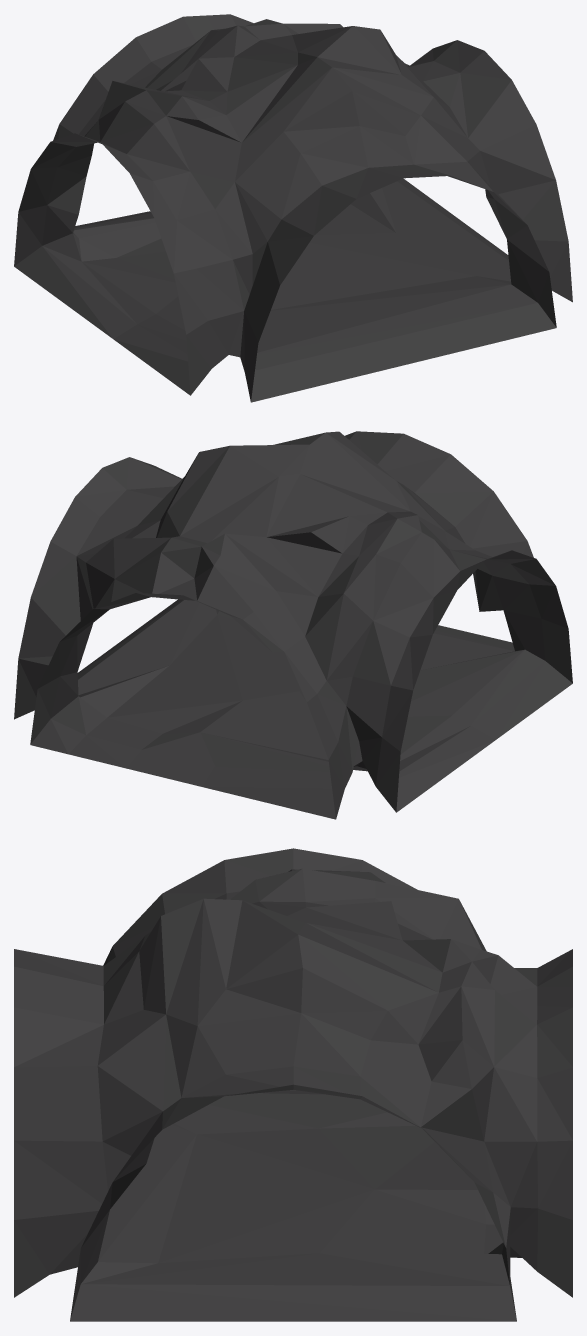
File: Cave_5A_Intersection_LOD_2.fbx
3 views of the same model, one above another, from view 1: azimuth 30°, elevation 25°; view 2: azimuth 150°, elevation 25°; view 3: azimuth 270°, elevation 25° (orthographic). The views are drawn at different scales.
Parts seen in each view (by area): view 1: polySurface1; view 2: polySurface1; view 3: polySurface1.
Boxes of the visible parts, x1=… form: polySurface1: x1=14, y1=14, x2=572, y2=402; polySurface1: x1=14, y1=431, x2=572, y2=819; polySurface1: x1=14, y1=848, x2=572, y2=1321.
Size of the model in its own units: 10.32 by 6.25 by 10.32.
